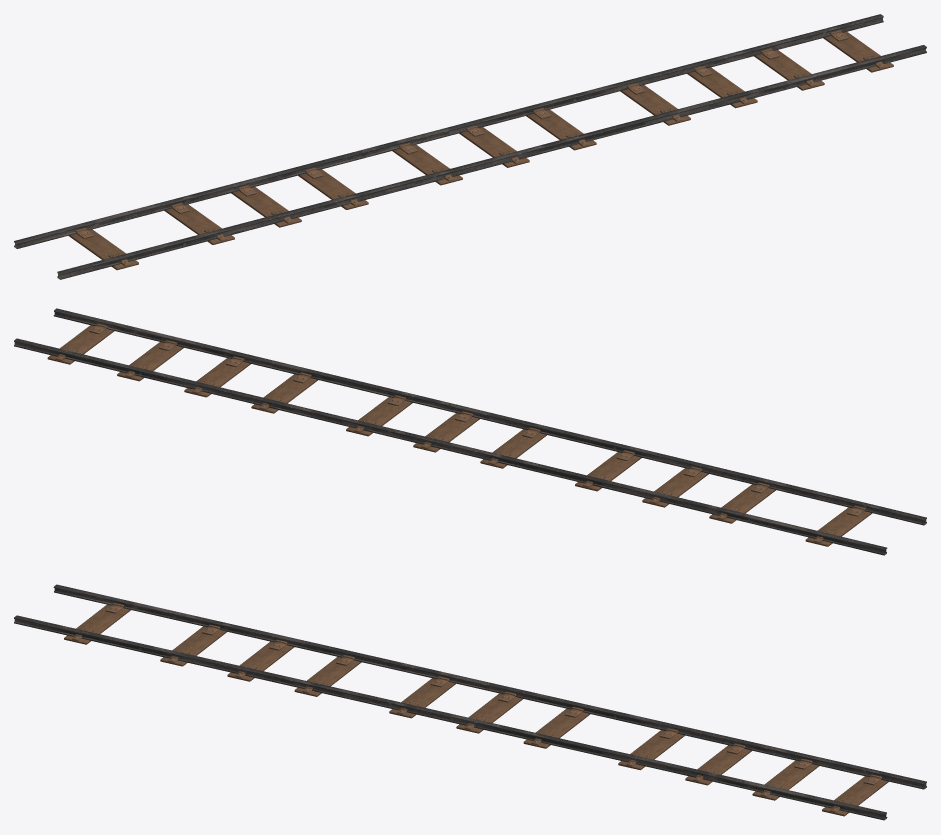
The model's file is TrainRoad.fbx.
The picture shows the model from 3 angles, top to bottom: view 1: azimuth 30°, elevation 25°; view 2: azimuth 150°, elevation 25°; view 3: azimuth 330°, elevation 25°; orthographic projection.
Parts seen in each view (by area): view 1: Box364; view 2: Box364; view 3: Box364.
Boxes of the visible parts, x1=… form: Box364: x1=14, y1=14, x2=926, y2=279; Box364: x1=14, y1=308, x2=926, y2=555; Box364: x1=14, y1=584, x2=926, y2=820.
Size of the model in its own units: 1322 by 20.7 by 157.
